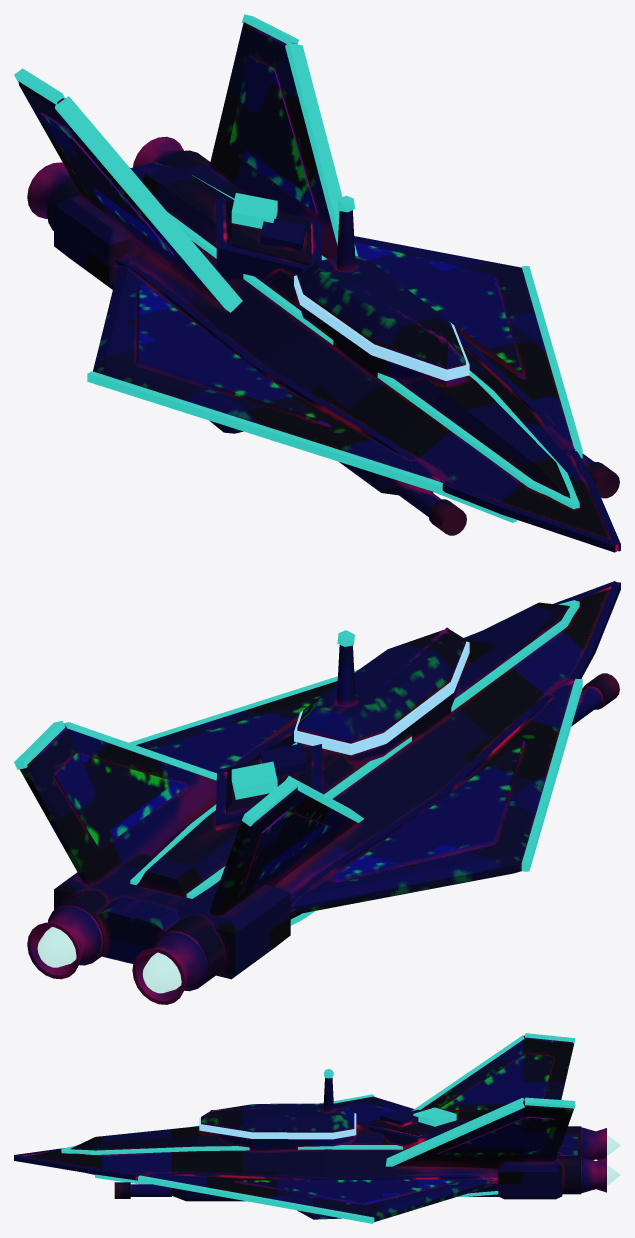
File: mirage.glb
The picture shows the model from 3 angles, top to bottom: view 1: azimuth 30°, elevation 25°; view 2: azimuth 150°, elevation 25°; view 3: azimuth 270°, elevation 25°; orthographic projection. The views are drawn at different scales.
Visible parts, largest first — view 1: mirage; view 2: mirage; view 3: mirage.
Boxes of the visible parts, x1=… form: mirage: x1=14, y1=14, x2=620, y2=552; mirage: x1=14, y1=581, x2=620, y2=1004; mirage: x1=14, y1=1033, x2=620, y2=1223.
Size of the model in its own units: 4.62 by 2.24 by 9.49.
12 materials, 8 textured.
